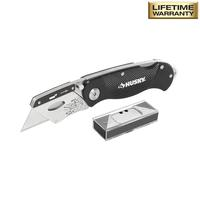knife: (13, 54, 177, 139)
